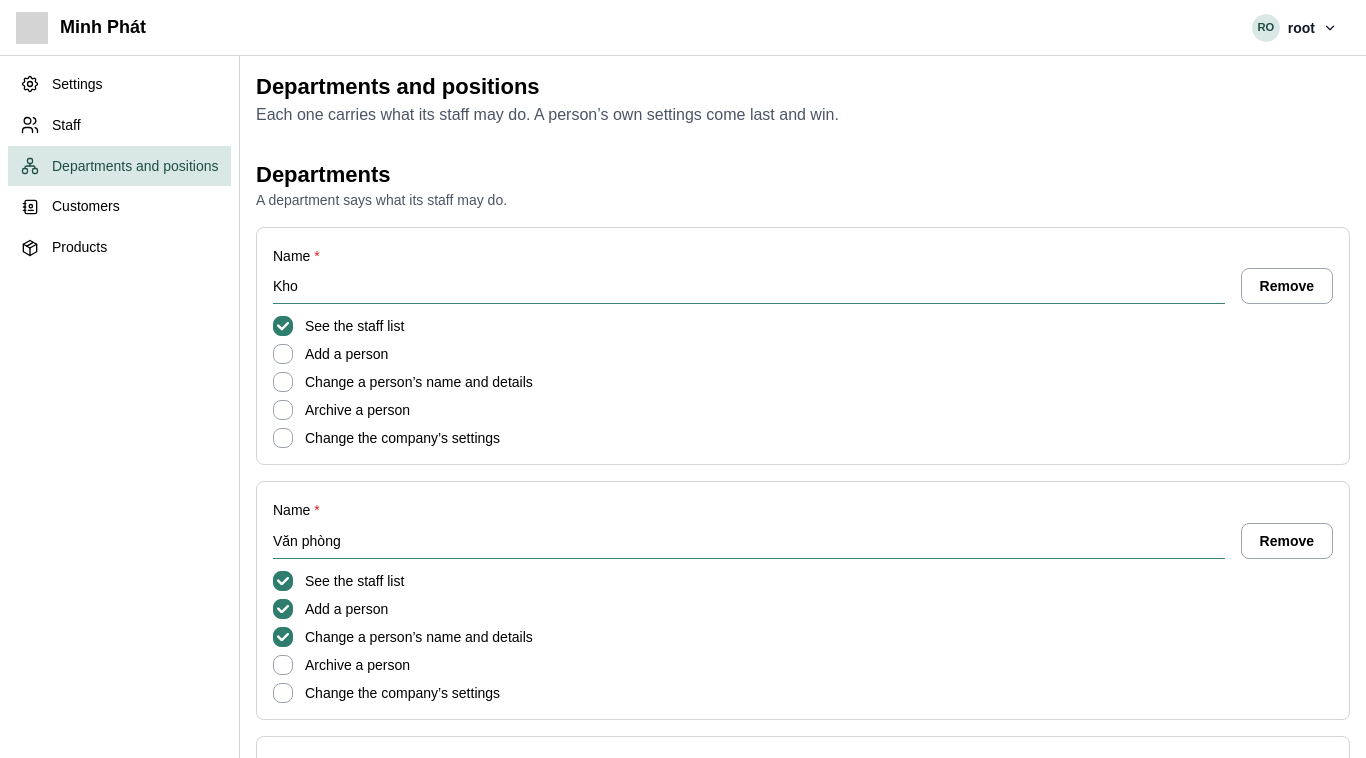
Test: the staff setup page › A permission that works only with seeing the staff list says so under itself while seeing is refused, at a department and at a position
The width and height of the screenshot is (1366, 758).
Expected: the heading "Departments and positions" is shown, [256,74,540,99]
Note: the office stops seeing: the two it still allows say so, the one it never allowed does not
Click the 2nd checkbox labelled "See the staff list": (283, 581) [273,571,293,591]
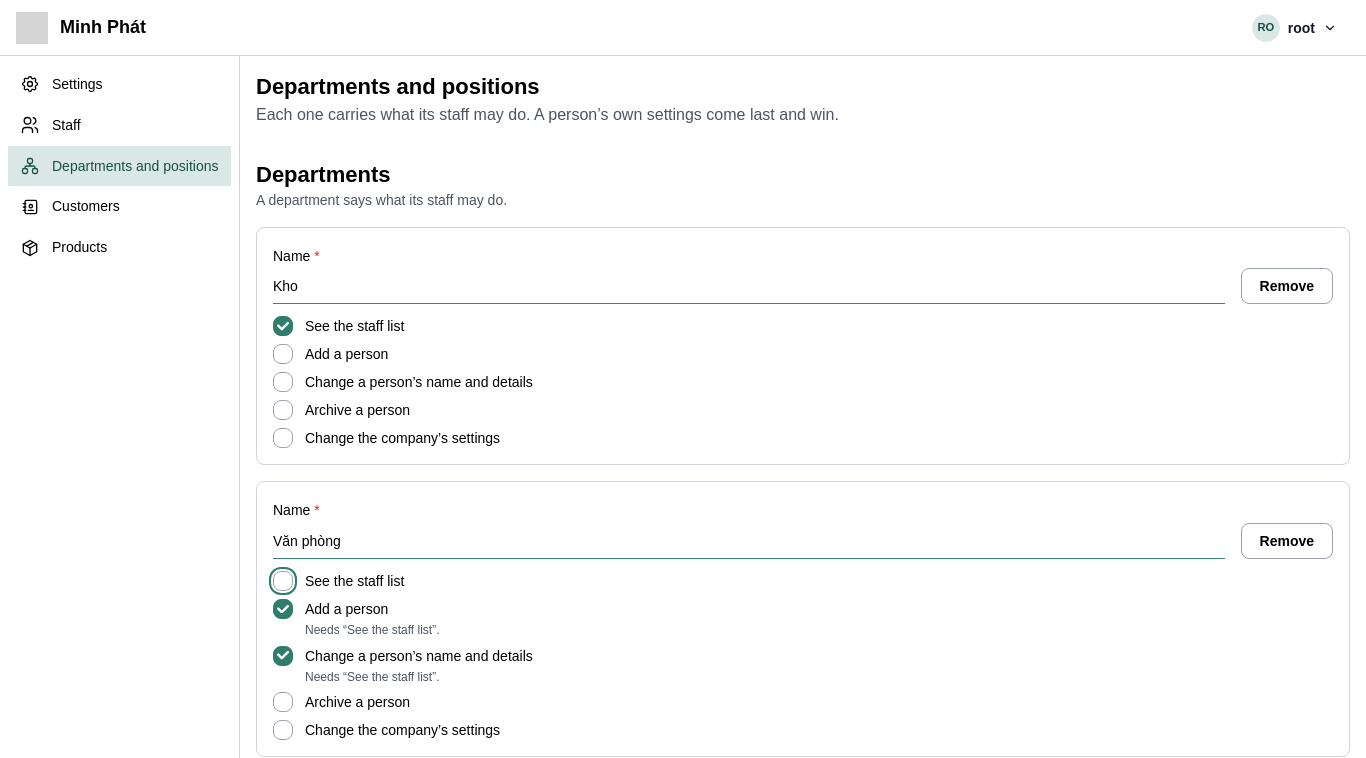
Expected: the checkbox does not show "Needs “See the staff list”."
Now the text "Needs “See the staff list”." is shown 2 times, box [293,623,440,638]; [305,670,440,684]
Now the element showing "Add a person Needs “See the staff list”." is shown, box [273,599,440,637]
Click the 2nd checkbox labelled "Archive a person": (283, 702) [273,692,293,712]
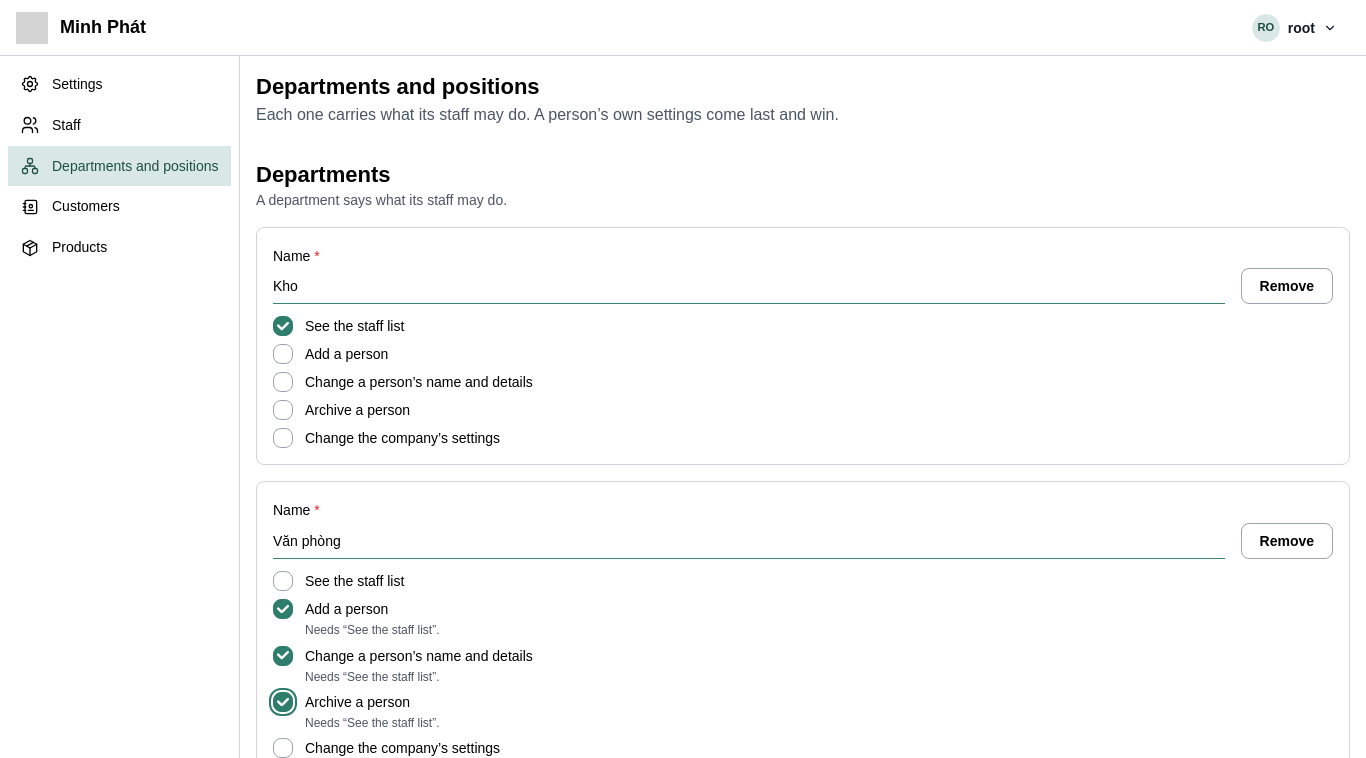
Now the text "Needs “See the staff list”." is shown 3 times, box [293,623,440,638]; [305,670,440,684]; [293,716,440,730]
Click the 2nd checkbox labelled "See the staff list": (283, 581) [273,571,293,591]
(page scrolled)
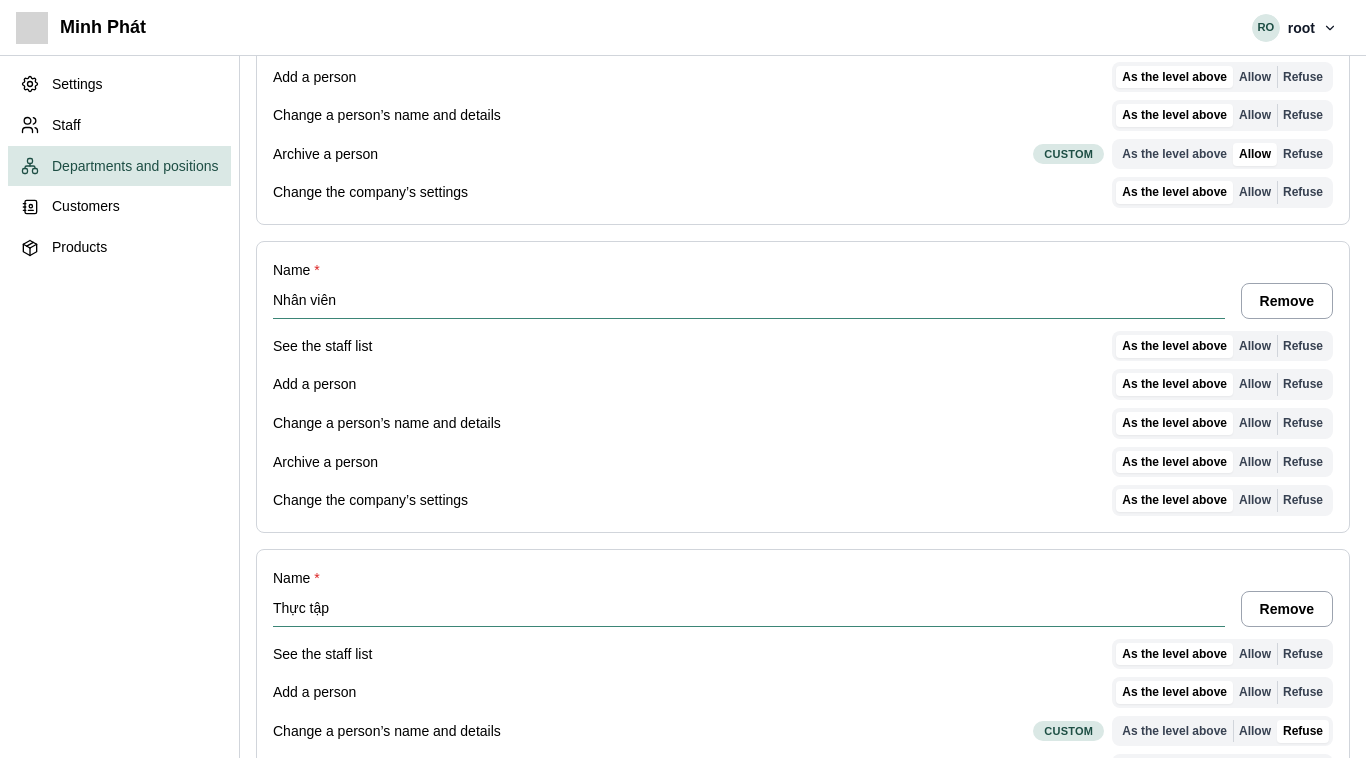
Now the text "Needs “See the staff list”." is not shown
Click the 6th text "Allow": (1255, 384) [1239,377,1271,391]
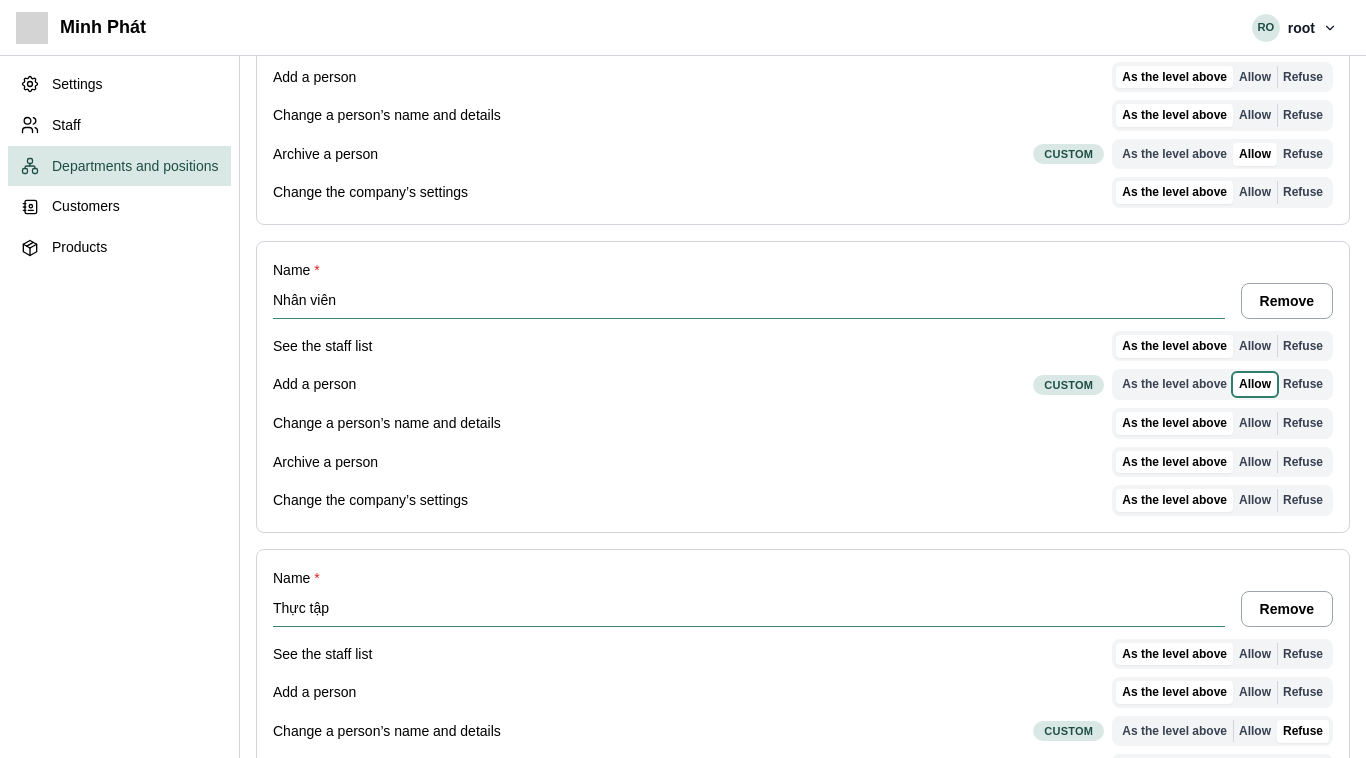
Click the 5th text "Refuse": (1303, 346) [1283,339,1323,353]
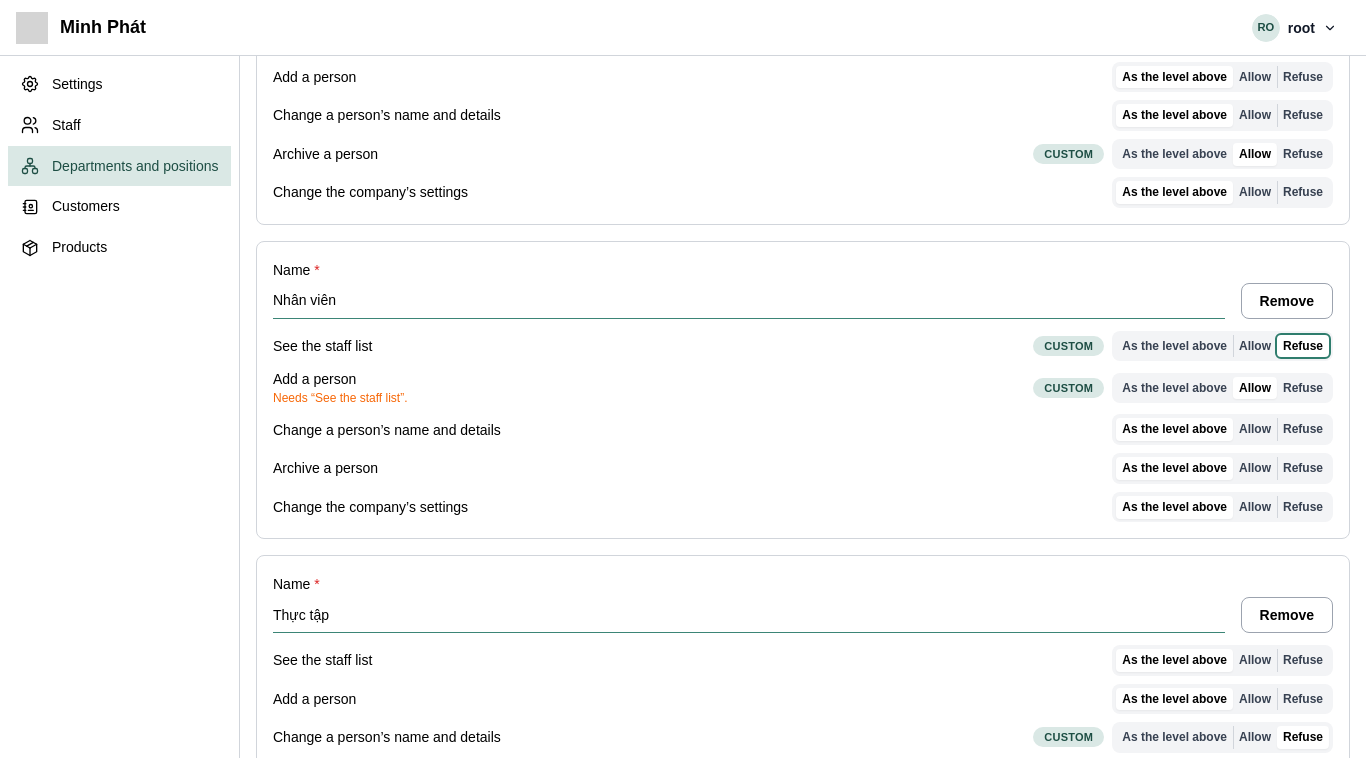
Now the text "Needs “See the staff list”." is shown once, box [273,390,408,406]
Click the 5th text "As the level above": (1175, 346) [1122,339,1227,353]
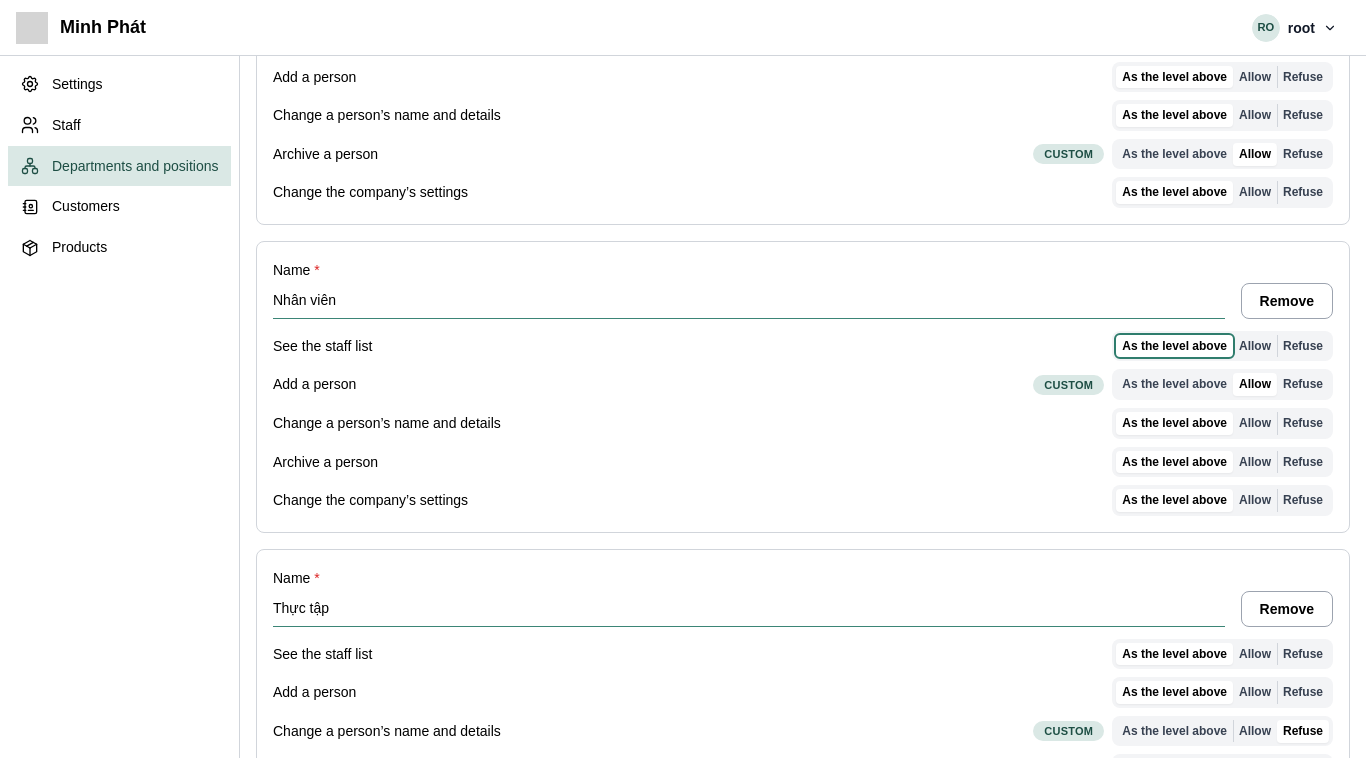
Now the text "Needs “See the staff list”." is not shown
